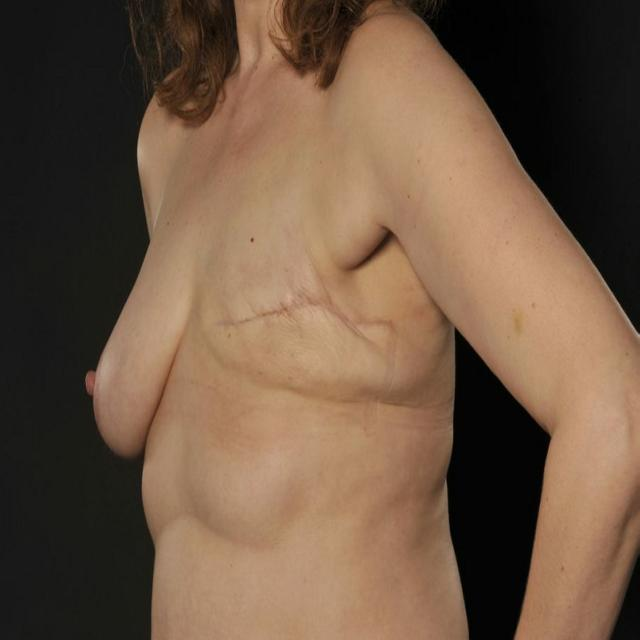wound: (212, 285, 410, 396)
